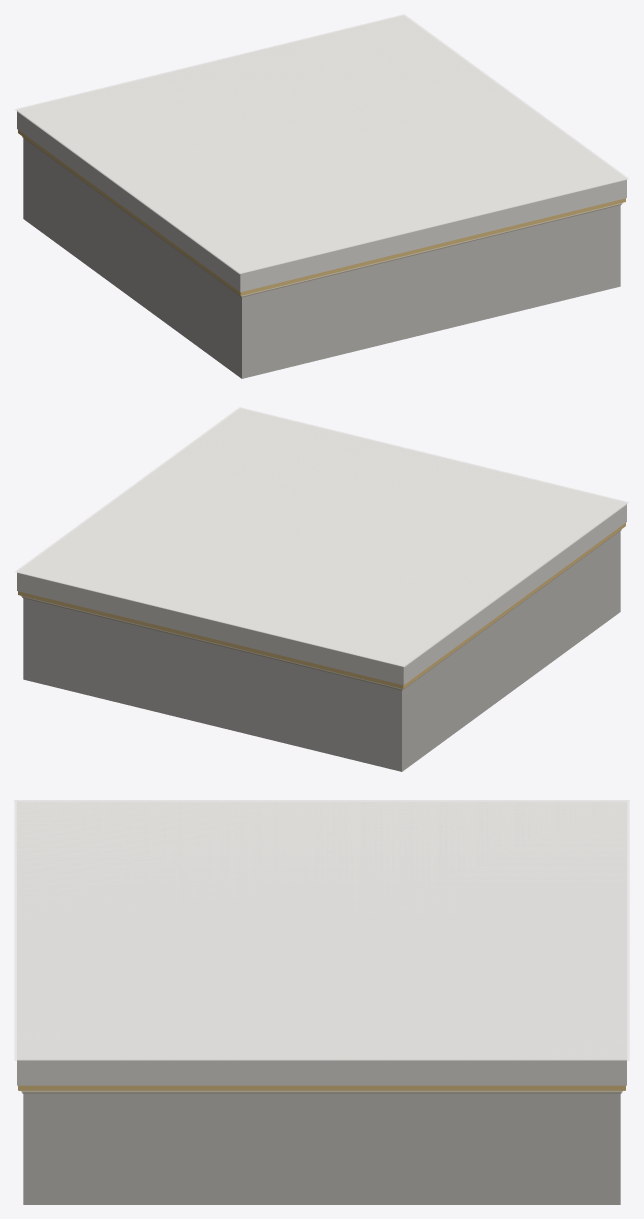
The model's file is terrazzo-cement.glb.
3 views of the same model, one above another, from view 1: azimuth 30°, elevation 25°; view 2: azimuth 150°, elevation 25°; view 3: azimuth 270°, elevation 25° (orthographic). The views are drawn at different scales.
Parts seen in each view (by area): view 1: topcoat-2, gel-fill, topcoat-1, substrate, body, decorative-strips, substrate-prep, mesh-layer; view 2: topcoat-2, gel-fill, topcoat-1, substrate, body, decorative-strips, substrate-prep, mesh-layer; view 3: topcoat-2, topcoat-1, body, substrate, gel-fill, decorative-strips, mesh-layer, substrate-prep, quartz-broadcast.
Part boxes in pixels (x1,y1,x2,y2): topcoat-2: (14,14,629,274); gel-fill: (17,15,626,272); topcoat-1: (16,15,627,273); substrate: (23,138,620,378); body: (17,18,626,292); decorative-strips: (18,130,625,295); substrate-prep: (22,136,621,297); mesh-layer: (22,136,622,296); topcoat-2: (14,407,629,667); gel-fill: (17,408,626,665); topcoat-1: (16,408,627,666); substrate: (23,531,620,771); body: (17,410,626,685); decorative-strips: (18,523,625,688); substrate-prep: (22,529,621,690); mesh-layer: (21,529,621,689); topcoat-2: (14,800,629,1060); topcoat-1: (15,801,628,1059); body: (17,802,626,1085); substrate: (23,1093,620,1204); gel-fill: (16,801,627,1058); decorative-strips: (18,1085,625,1090); mesh-layer: (21,1091,622,1092); substrate-prep: (22,1092,621,1093); quartz-broadcast: (19,1090,624,1090).
Size of the model in its own units: 0.3 by 0.0797 by 0.3.
